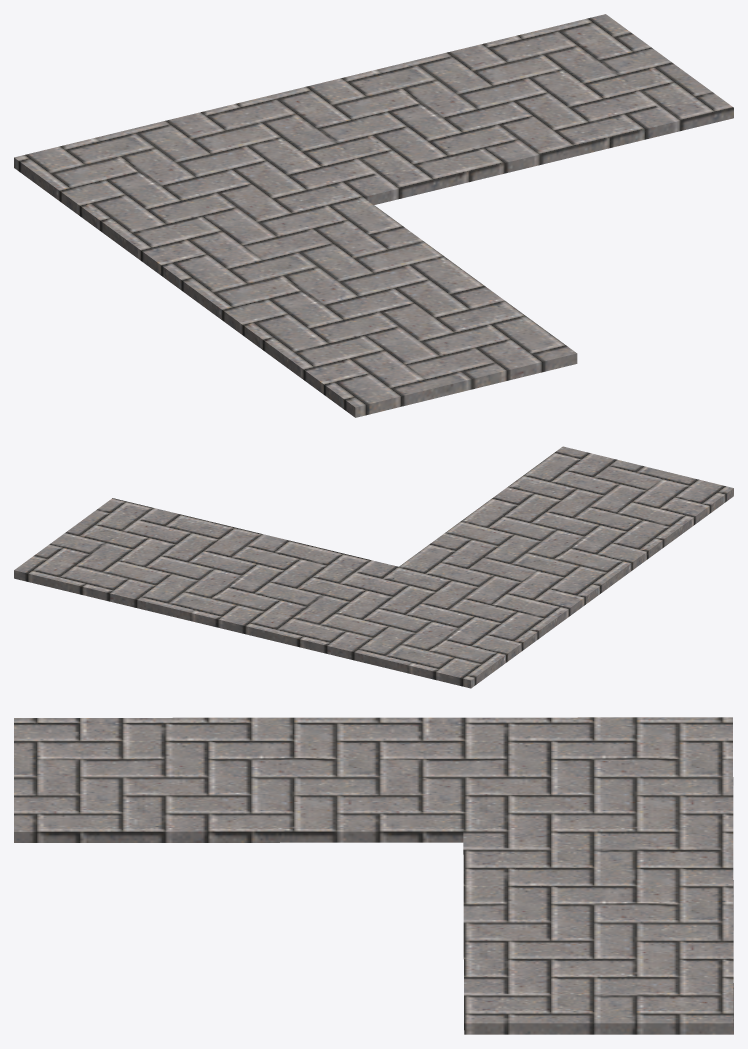
File: sett1_corner1.fbx
The picture shows the model from 3 angles, top to bottom: view 1: azimuth 30°, elevation 25°; view 2: azimuth 150°, elevation 25°; view 3: azimuth 270°, elevation 25°; orthographic projection. The views are drawn at different scales.
Visible parts, largest first — view 1: polySurface1024; view 2: polySurface1024; view 3: polySurface1024.
Boxes of the visible parts, x1=… form: polySurface1024: x1=14, y1=14, x2=733, y2=417; polySurface1024: x1=14, y1=446, x2=733, y2=688; polySurface1024: x1=14, y1=717, x2=733, y2=1034.
Size of the model in its own units: 401 by 7.76 by 400.
